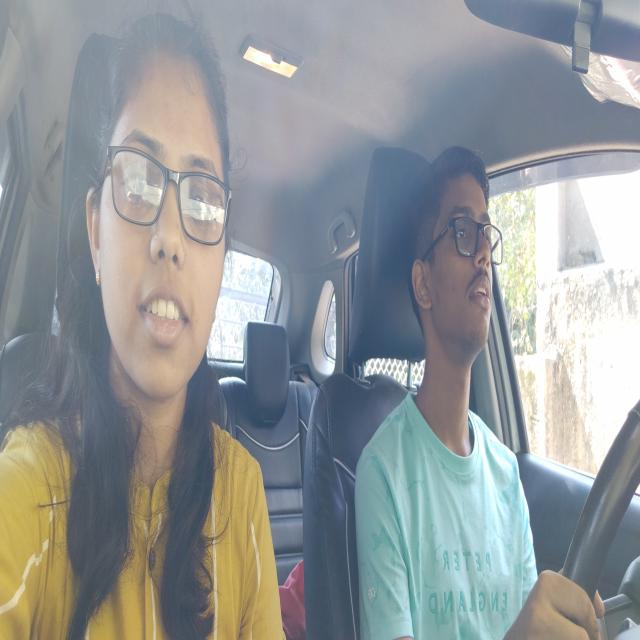person: (82, 10, 237, 429), (406, 135, 506, 376)
